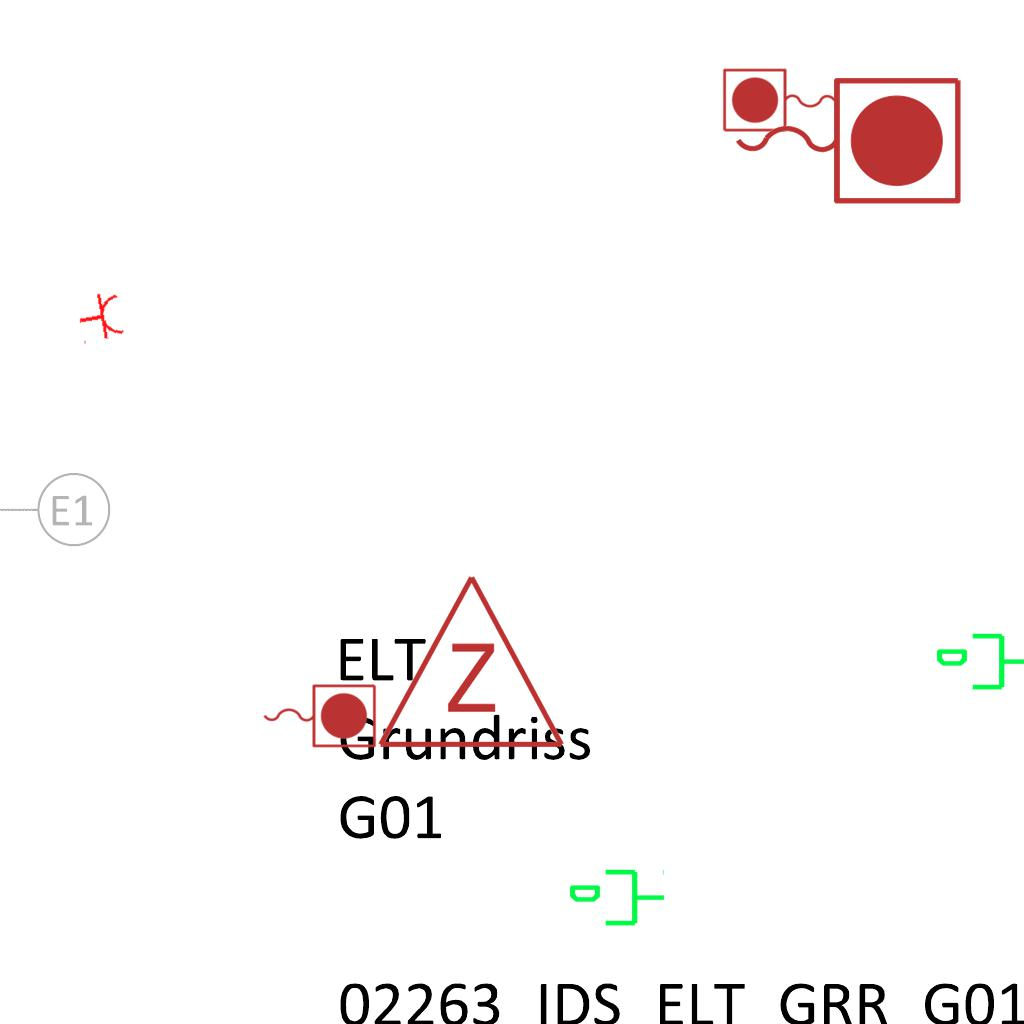Datenanschluss_einfach: (567, 865, 667, 934), (934, 629, 1024, 698)
Schukosteckdose_einfach: (74, 289, 127, 347)
Zimmersignalleuchte: (371, 562, 567, 762)
Zugtaster: (725, 67, 969, 211), (719, 65, 841, 137), (258, 679, 380, 751)
